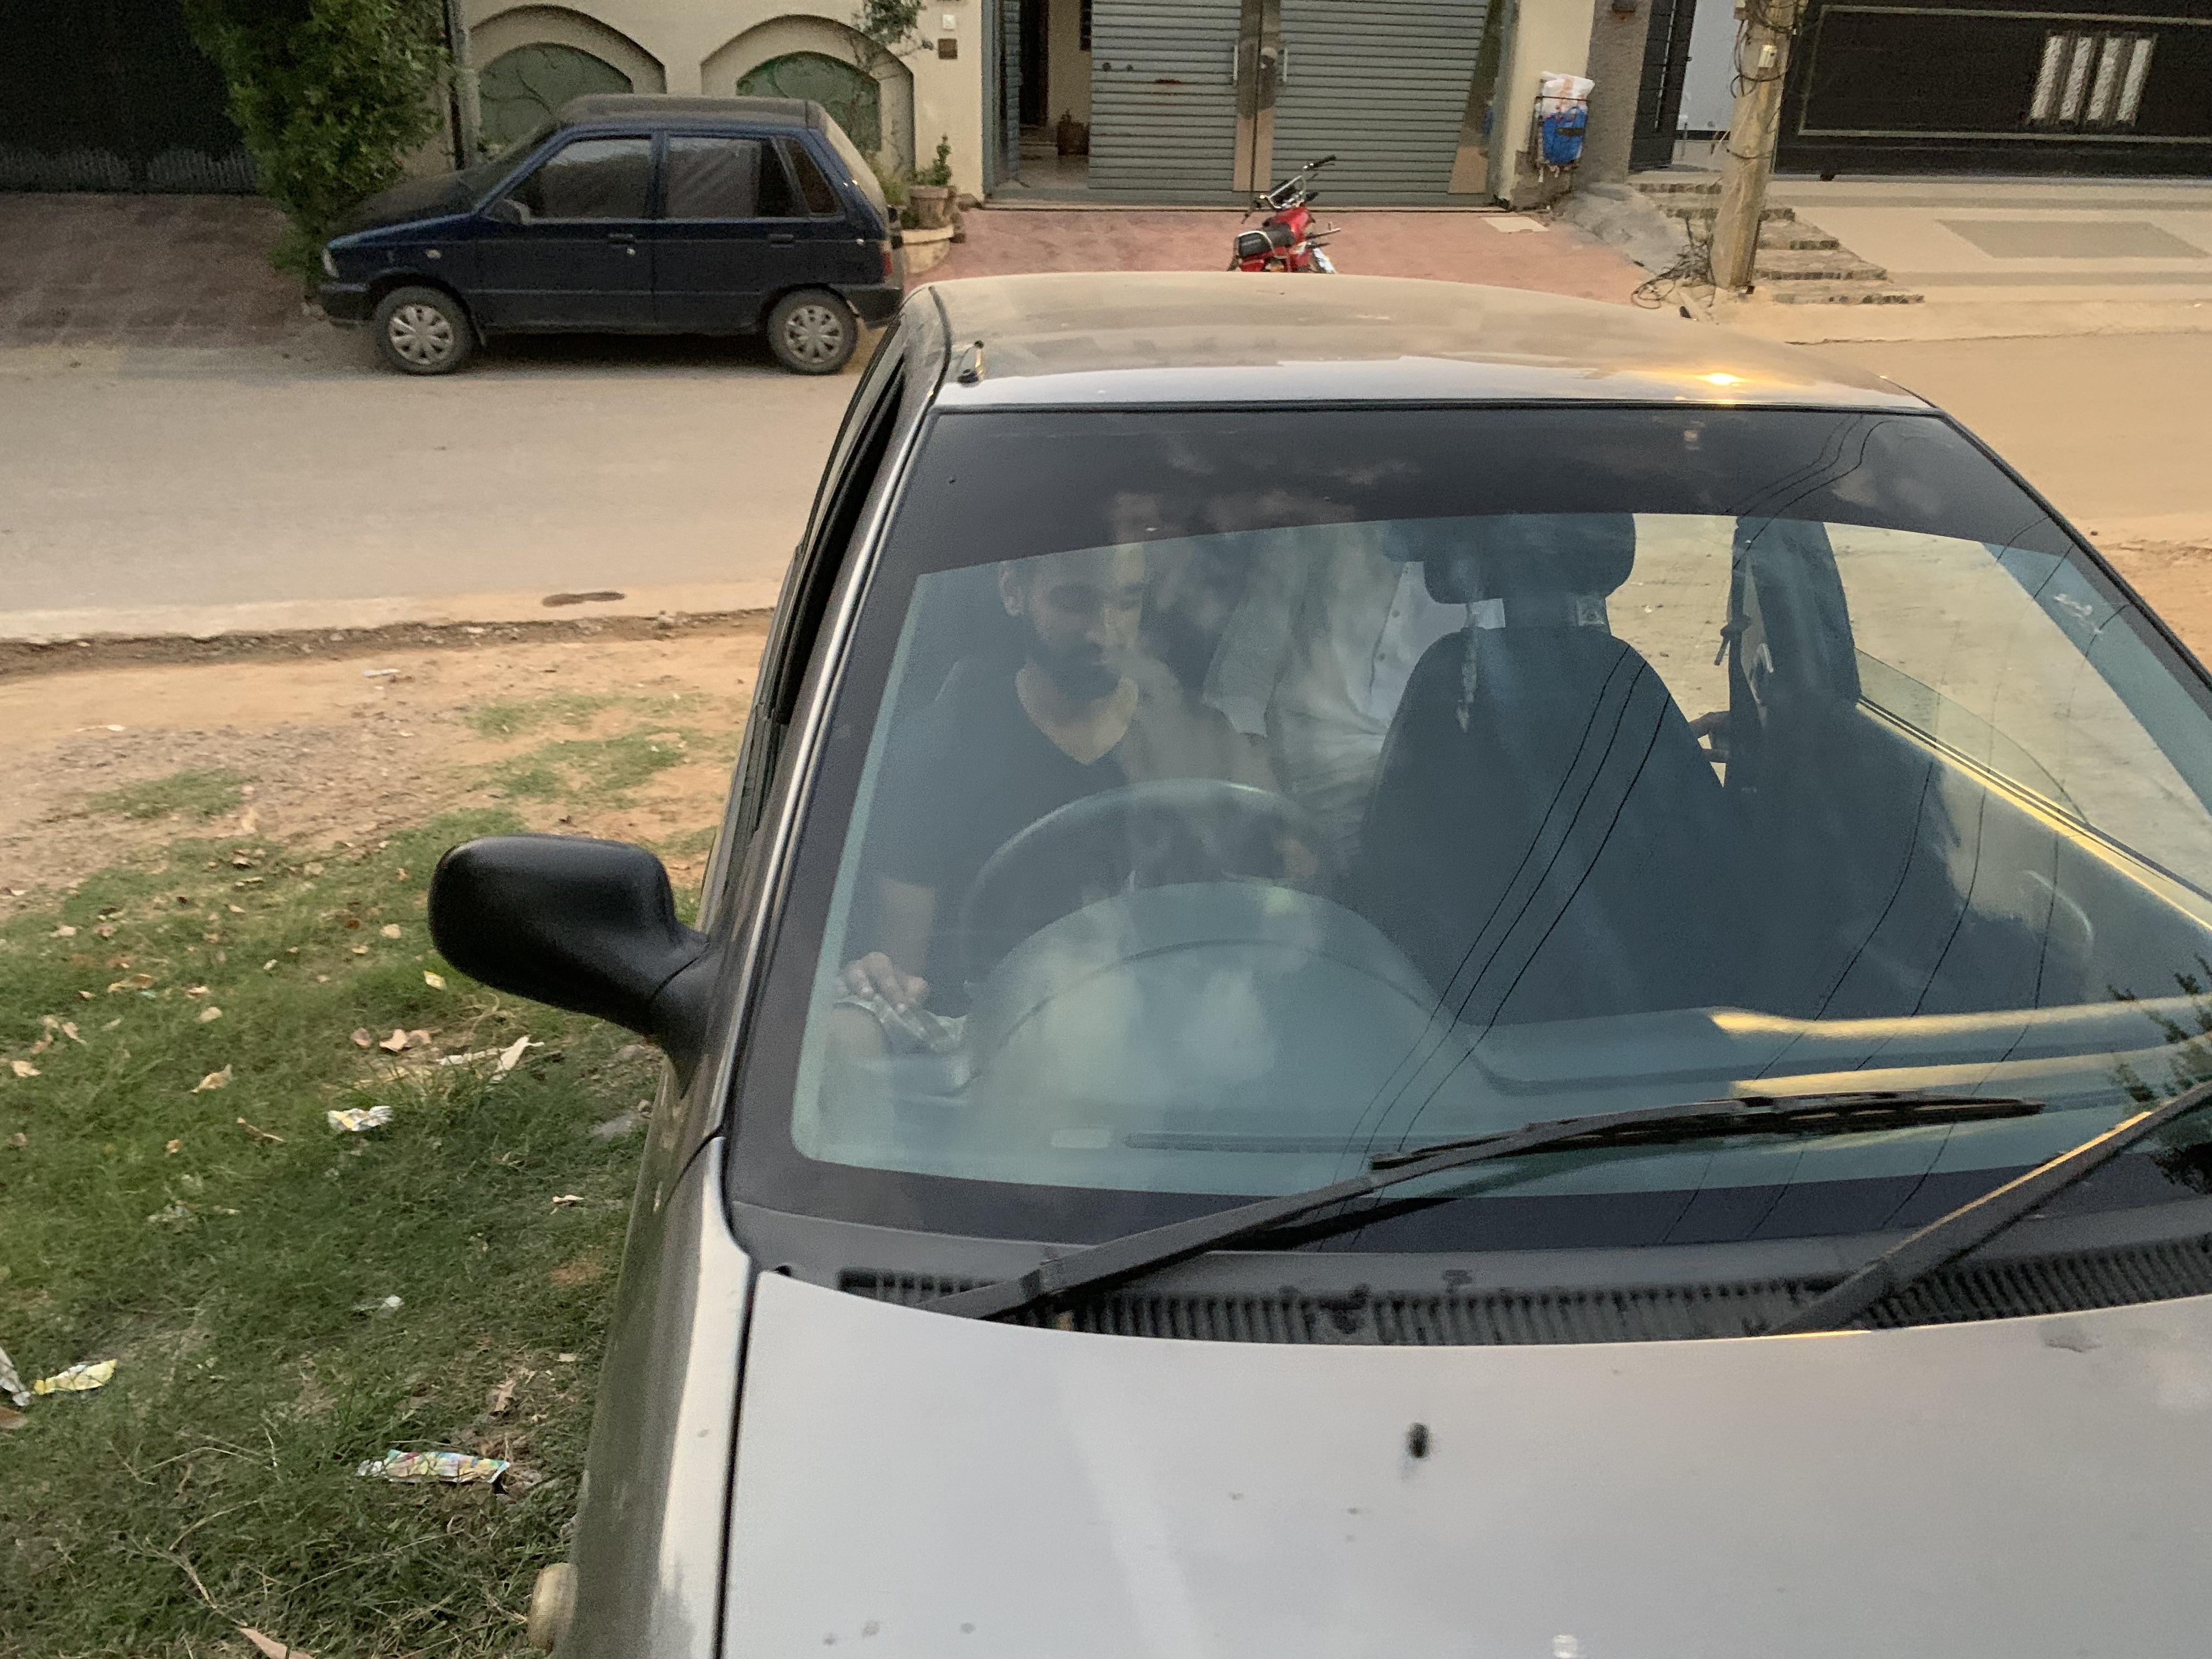windshield: (725, 378, 2212, 1272)
